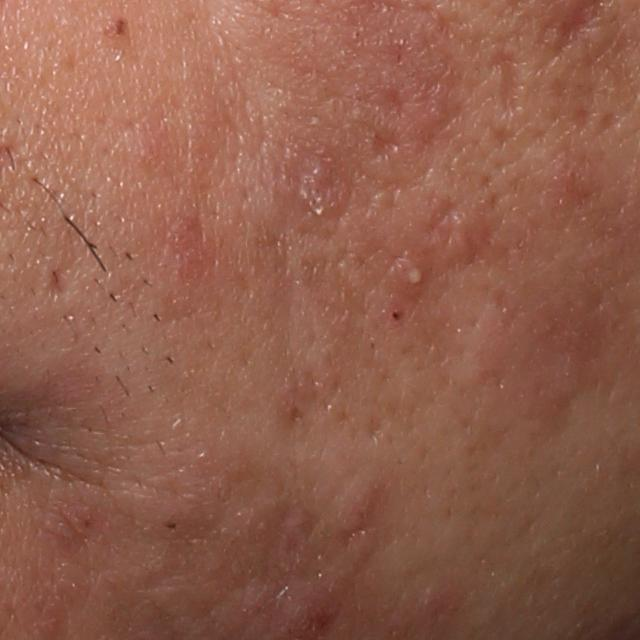atrophic_scar: (488, 46, 520, 121), (363, 117, 409, 165), (42, 262, 79, 302)
nevus: (105, 18, 132, 44)
pustule: (390, 251, 431, 296)
